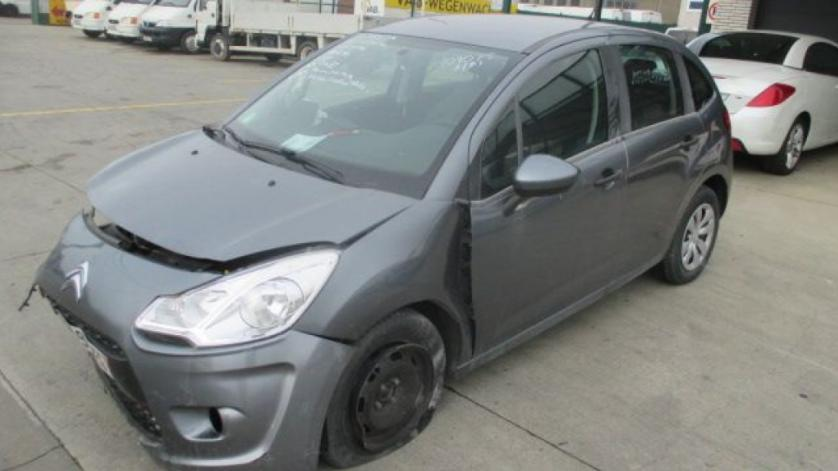Back-wheel: (656, 187, 720, 285)
Back-window: (619, 45, 683, 132), (682, 55, 713, 111)
Fender: (292, 200, 472, 364)
Front-bumper: (18, 212, 353, 469)
Front-door: (469, 36, 631, 356)
Front-wheel: (325, 310, 447, 468)
Front-window: (480, 49, 609, 199)
Headlight: (132, 248, 341, 355)
Hood: (86, 127, 419, 263)
Mirror: (503, 154, 580, 214)
Quarter-panel: (627, 95, 733, 272)
Rocker-panel: (454, 254, 663, 380)
Roof: (365, 13, 673, 54)
Tail-light: (722, 109, 732, 128)
Windshield: (209, 32, 527, 198)
